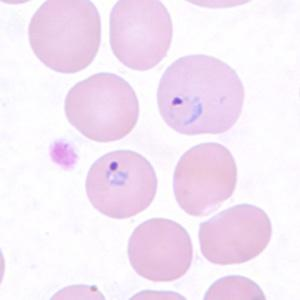Infected: (157, 54, 245, 135), (86, 148, 158, 218)
Uninfected: (64, 71, 140, 142), (29, 0, 101, 73), (172, 141, 238, 218), (198, 202, 273, 267), (109, 0, 173, 71), (128, 219, 192, 282)
